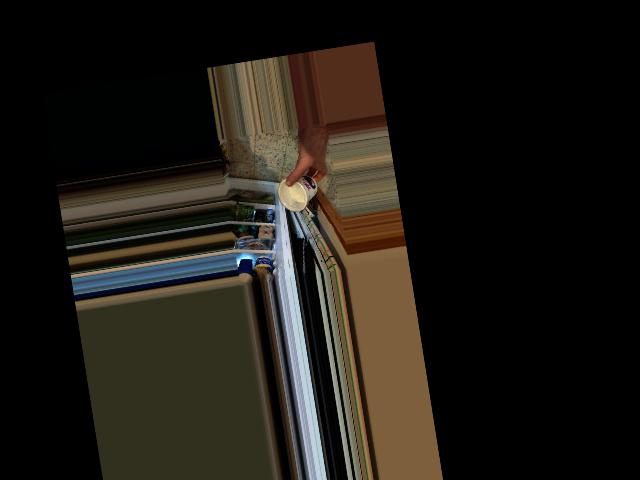cotage: (275, 169, 322, 214)
